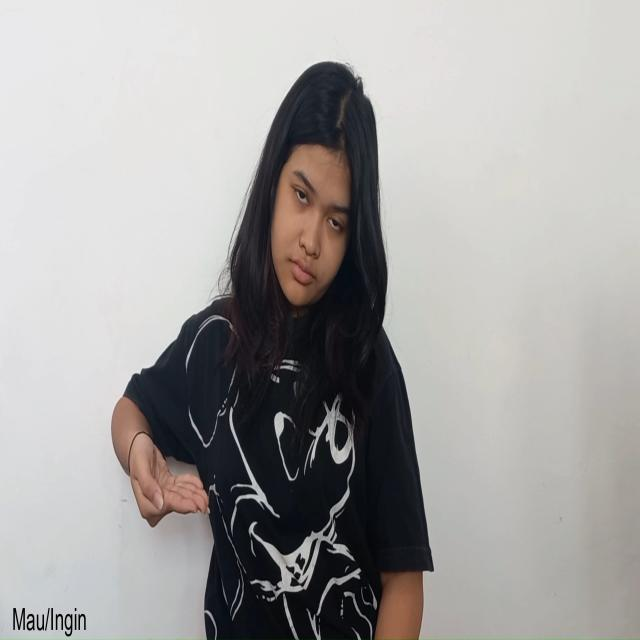Mau-Ingin -BISINDO-: (123, 428, 214, 532)
